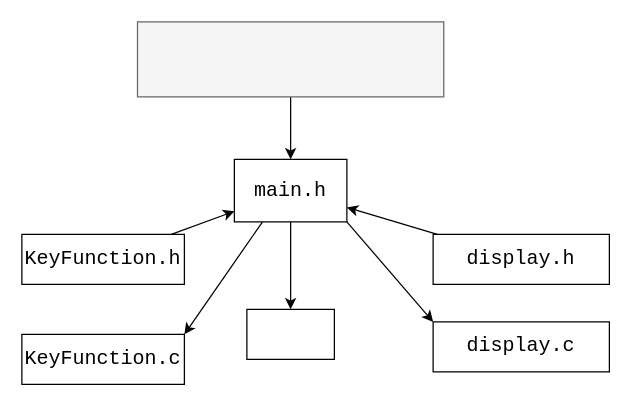
Some shapes in this 631 by 406 pixel diagram are drawn without their labels. Here are the shapes that lost their labels. From the top down, the centre of each, then its label:
At pixel 290 59: "DSP281x_Device.h DSP281x_GlobalPrototypes.h".
At pixel 290 333: "main.c".
